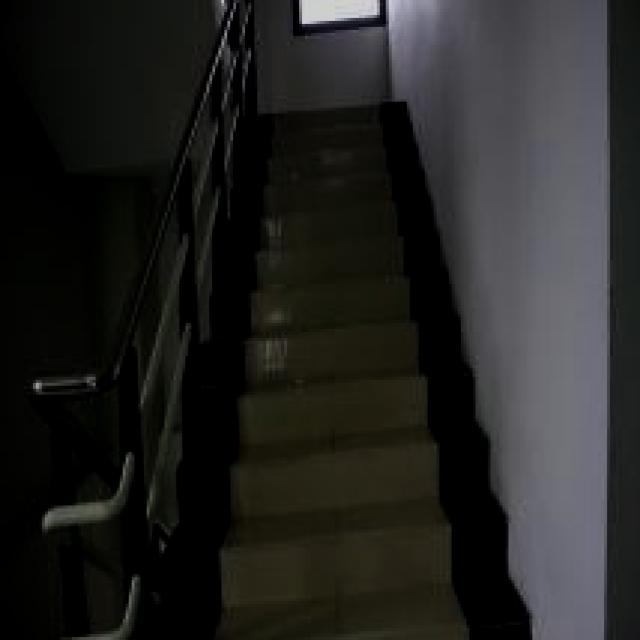upstair: (243, 99, 440, 640)
